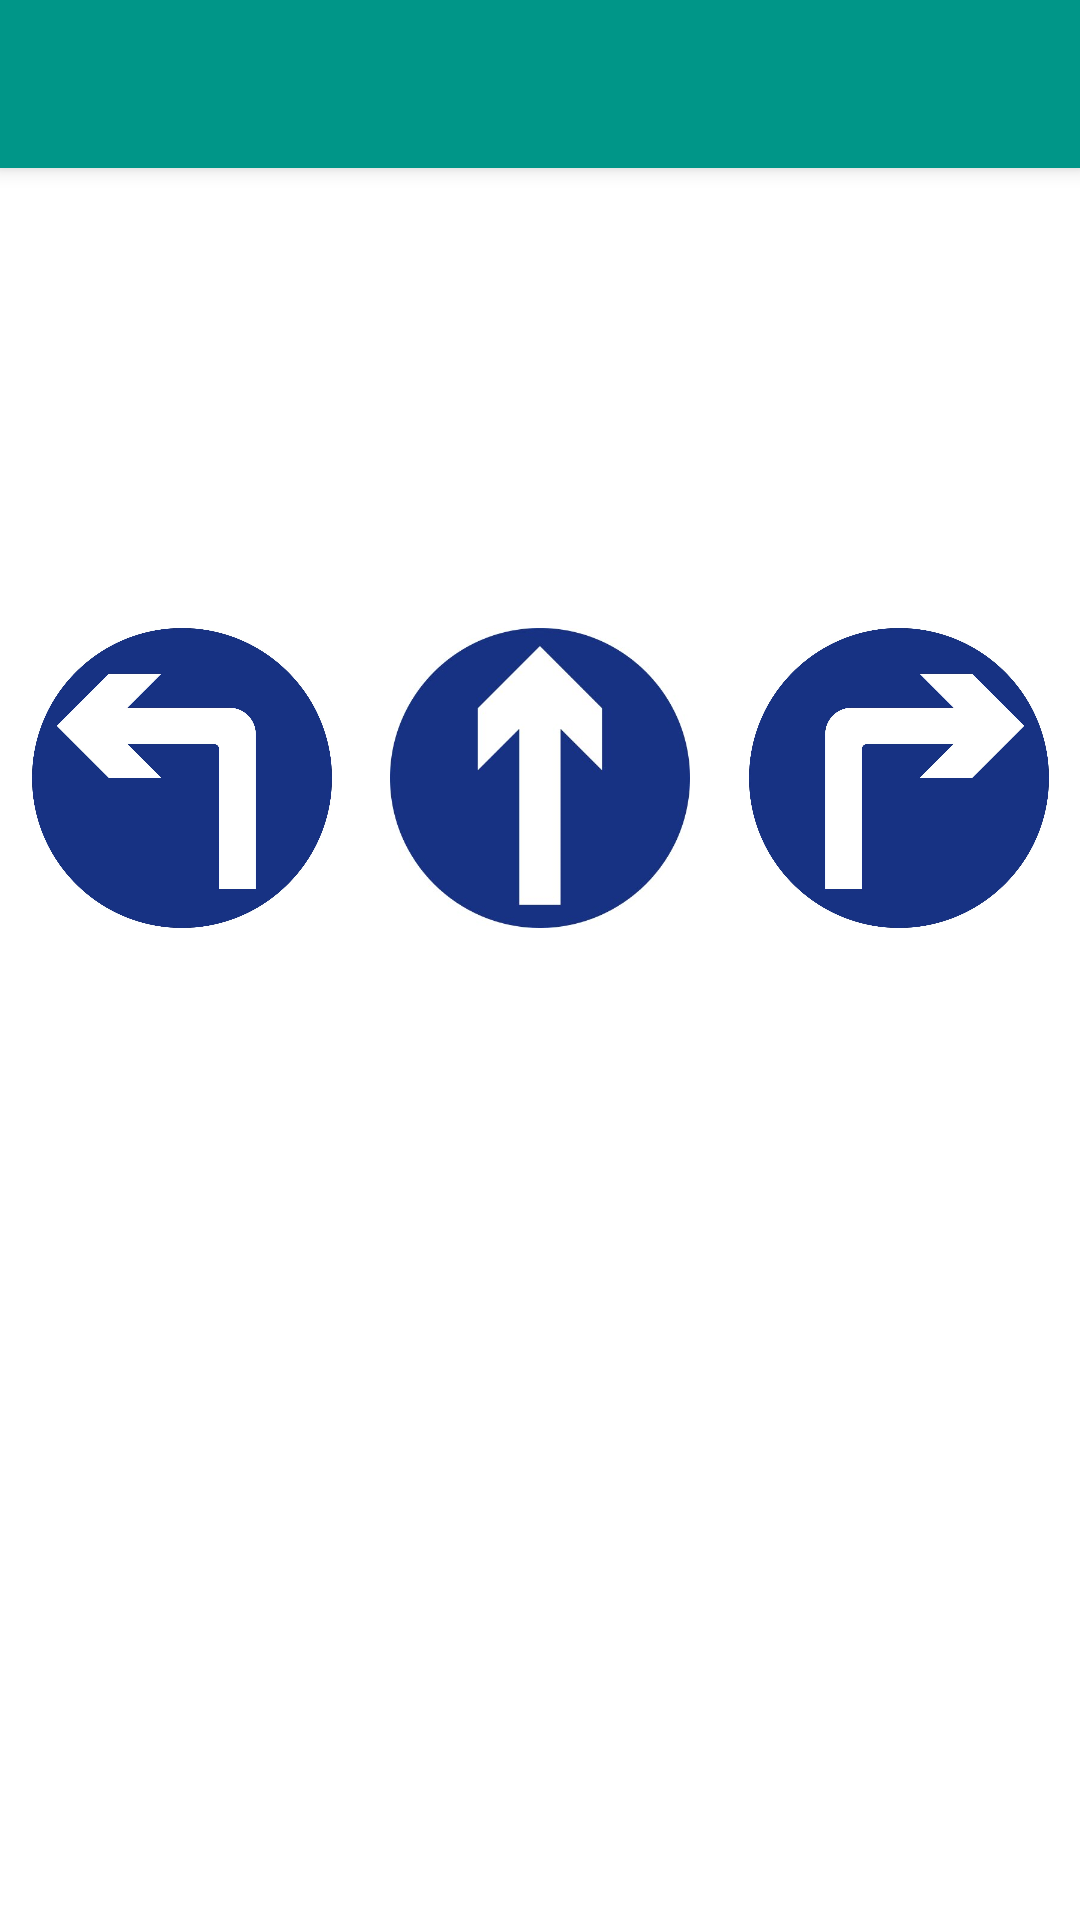

Icon bounding boxes for this 1080*1920 phone screenshot, format Rect(x1, y1, x2, y2):
left: Rect(32, 628, 332, 928)
right: Rect(749, 628, 1049, 928)
straight: Rect(390, 628, 690, 928)
